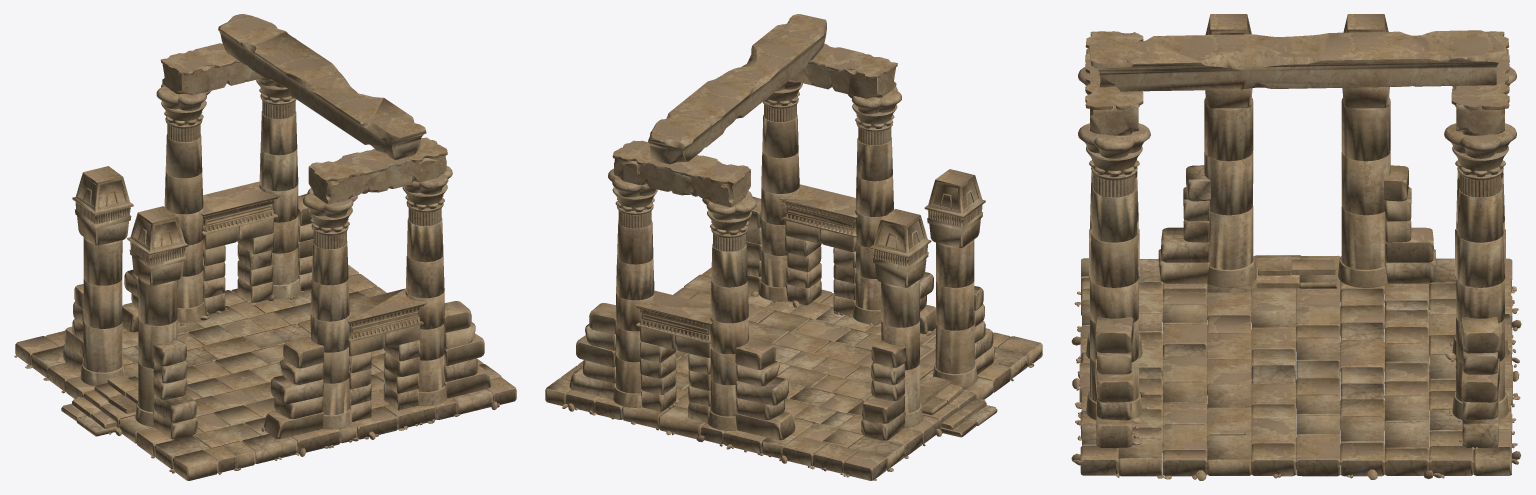
File: sf_egyptian_ruins.glb
3 renders of one model, left to right at view 1: azimuth 30°, elevation 25°; view 2: azimuth 150°, elevation 25°; view 3: azimuth 270°, elevation 25°, orthographic. The views are drawn at different scales.
Visible parts, largest first — view 1: sf_egyptian_ruins; view 2: sf_egyptian_ruins; view 3: sf_egyptian_ruins.
Part boxes in pixels (x1=…): sf_egyptian_ruins: x1=14, y1=14, x2=516, y2=480; sf_egyptian_ruins: x1=545, y1=14, x2=1042, y2=480; sf_egyptian_ruins: x1=1071, y1=14, x2=1521, y2=480.
Bounding box in the file's own units: 13.68 × 10.6 × 11.86.
3 materials, 3 textured.
